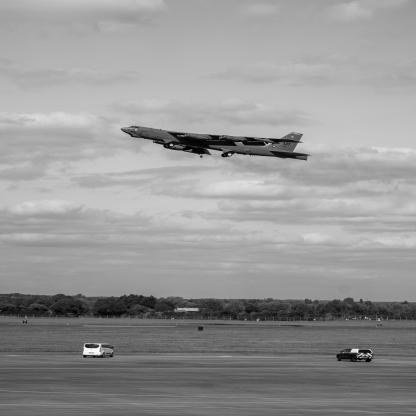B52: (121, 126, 312, 162)
